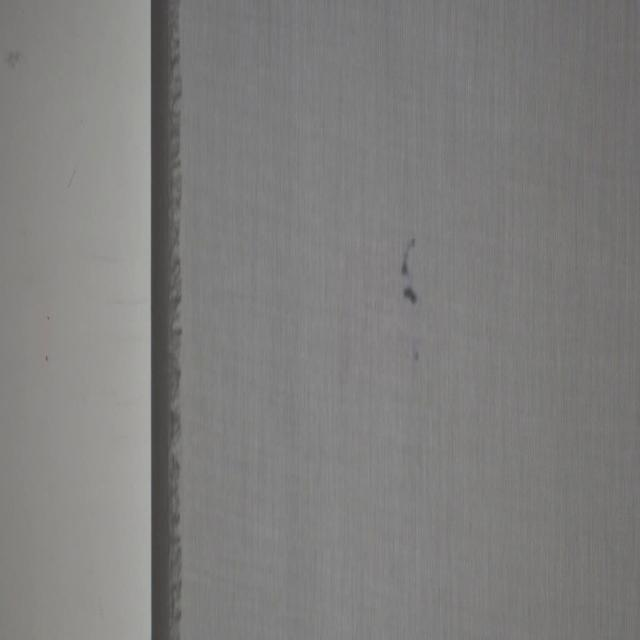dirty: (399, 233, 419, 306)
